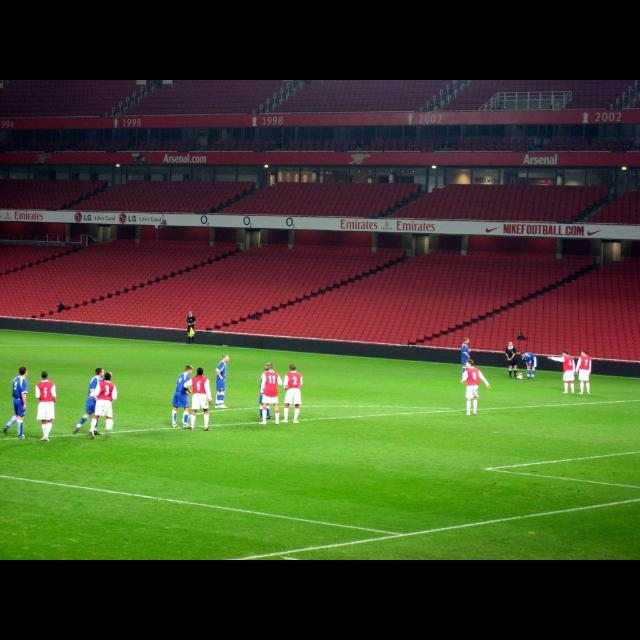Football: (516, 374, 522, 378)
